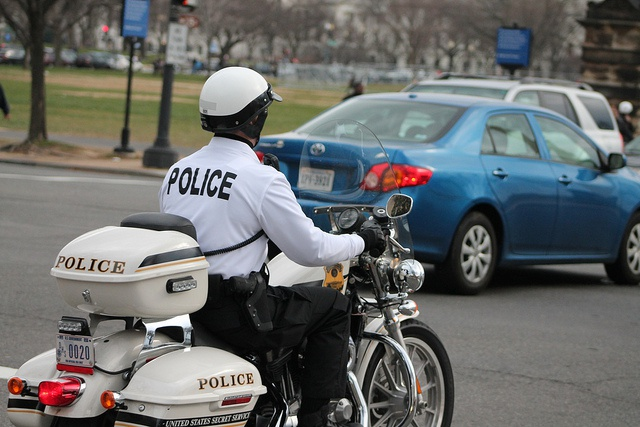non-vehicle: (5, 193, 456, 421), (616, 102, 635, 140)
